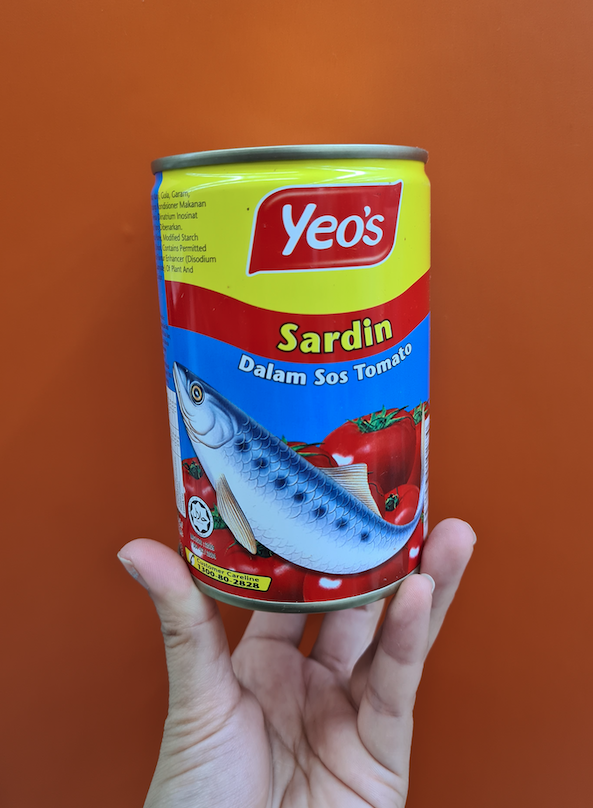Canned_Sardines_and_Mackerel: (164, 158, 422, 588)
